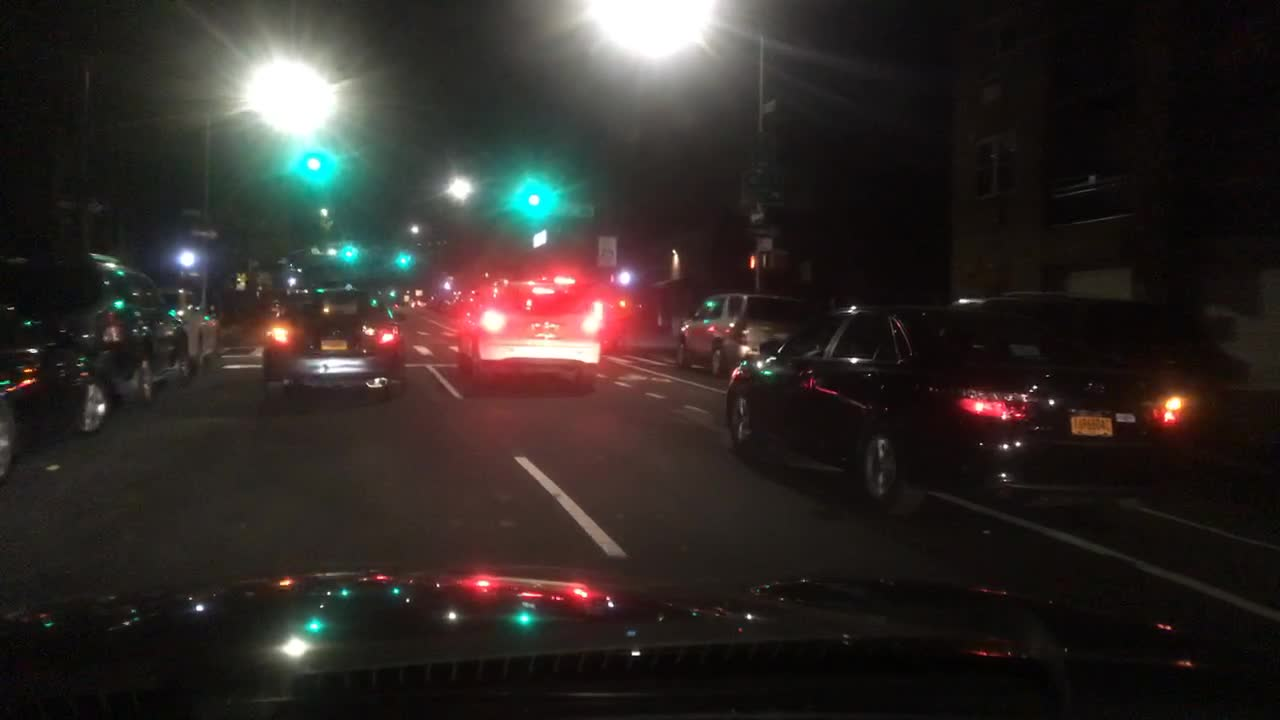car: (722, 287, 1223, 519), (1, 249, 187, 405), (1, 305, 121, 485), (259, 286, 400, 405), (459, 281, 603, 388), (675, 290, 808, 376), (162, 287, 223, 376), (445, 287, 479, 317), (426, 288, 456, 311), (407, 291, 427, 310)
traffic light: (305, 147, 325, 182), (525, 185, 544, 214), (614, 267, 640, 286), (178, 253, 203, 268), (340, 242, 356, 264), (762, 252, 780, 267), (398, 250, 410, 269), (747, 251, 757, 267)
traffic sign: (738, 167, 787, 208), (60, 200, 102, 218), (754, 131, 777, 162), (553, 203, 595, 219), (598, 236, 617, 267), (744, 224, 777, 236), (532, 228, 549, 251), (189, 228, 217, 238), (756, 238, 774, 252), (182, 206, 204, 214), (761, 101, 772, 113)
